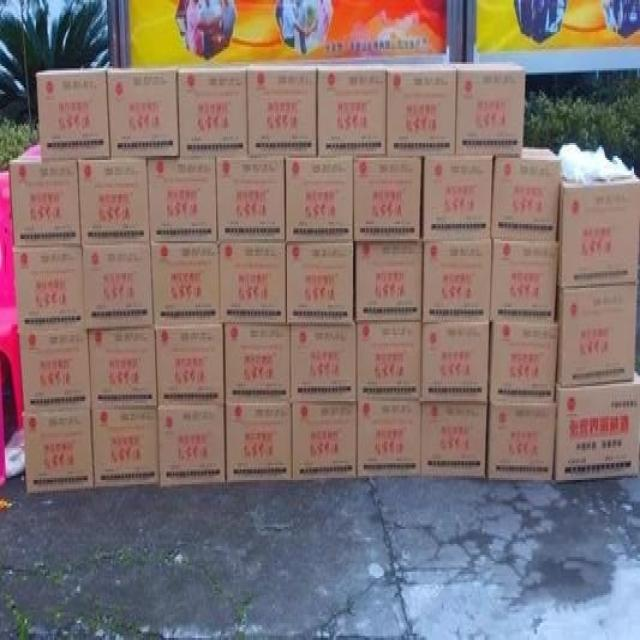box: (557, 160, 640, 288), (554, 369, 640, 482), (555, 286, 638, 386), (8, 143, 82, 247), (448, 62, 526, 156), (107, 66, 179, 160), (384, 64, 456, 158), (490, 147, 562, 241), (37, 70, 110, 160), (317, 62, 385, 158), (247, 64, 317, 156), (178, 66, 249, 156), (23, 407, 95, 495), (13, 247, 88, 331), (420, 156, 494, 241), (146, 158, 219, 243), (215, 156, 286, 243), (82, 245, 155, 329), (78, 160, 150, 245), (489, 318, 558, 405), (19, 329, 91, 412), (285, 156, 353, 243), (423, 239, 492, 324), (150, 243, 220, 326), (490, 239, 560, 322), (91, 405, 160, 489), (88, 326, 157, 410), (289, 318, 357, 403), (155, 324, 226, 405), (355, 239, 423, 322), (353, 158, 421, 241), (488, 401, 558, 480), (157, 405, 225, 486), (421, 324, 489, 405), (223, 324, 291, 405), (219, 243, 287, 324), (286, 243, 353, 324), (355, 399, 421, 480), (226, 403, 292, 482), (291, 403, 357, 480), (357, 322, 421, 401), (421, 403, 488, 478)
